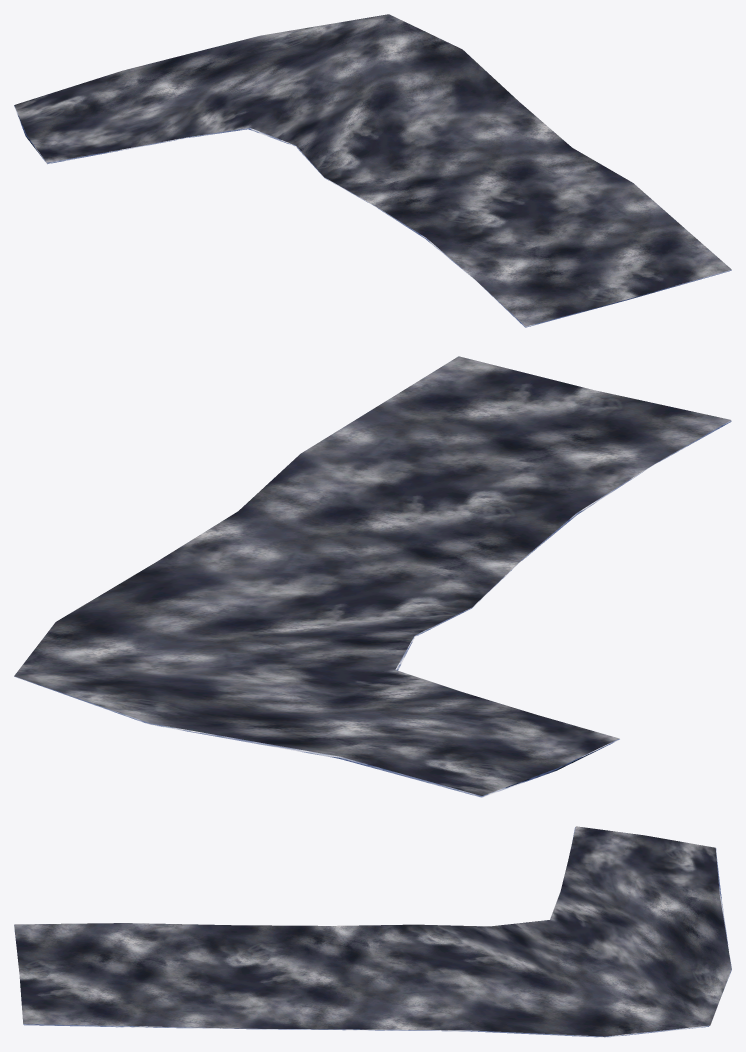
Rendered from LONE_MOUNTAIN_WATERFALLS_MAIN_WATER_GEARS02.fbx.
3 renders of one model, top to bottom at view 1: azimuth 30°, elevation 25°; view 2: azimuth 150°, elevation 25°; view 3: azimuth 270°, elevation 25°, orthographic. The views are drawn at different scales.
Visible parts, largest first — view 1: LONE_MOUNTAIN_WATERFALLS_MAIN_WATER_GEARS02; view 2: LONE_MOUNTAIN_WATERFALLS_MAIN_WATER_GEARS02; view 3: LONE_MOUNTAIN_WATERFALLS_MAIN_WATER_GEARS02.
Part boxes in pixels (box(x1,y1,x2,y2)): LONE_MOUNTAIN_WATERFALLS_MAIN_WATER_GEARS02: box(14, 14, 731, 327); LONE_MOUNTAIN_WATERFALLS_MAIN_WATER_GEARS02: box(14, 356, 731, 797); LONE_MOUNTAIN_WATERFALLS_MAIN_WATER_GEARS02: box(14, 826, 731, 1037).
Size of the model in its own units: 95209 by 1670 by 138822.
2 materials, 2 textured.
